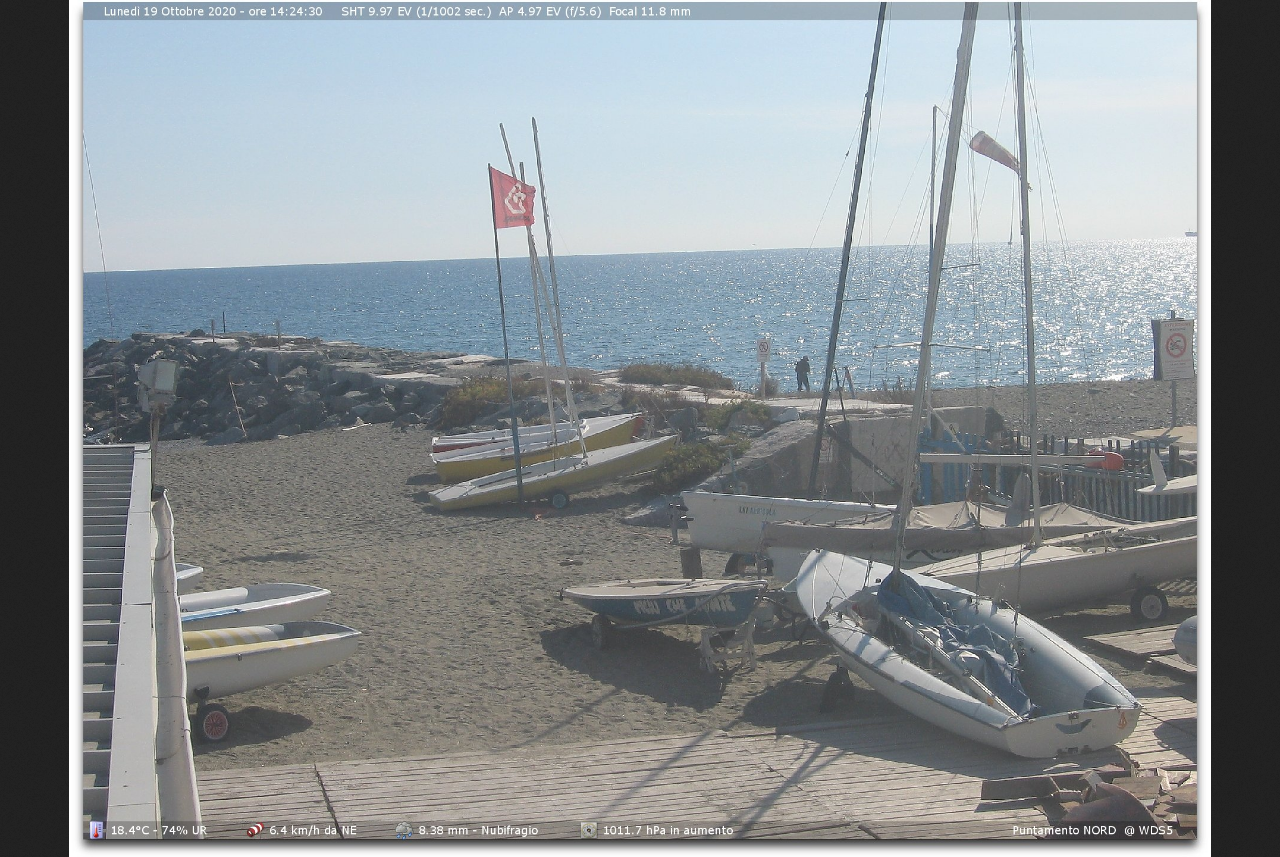yes: (489, 164, 537, 233)
